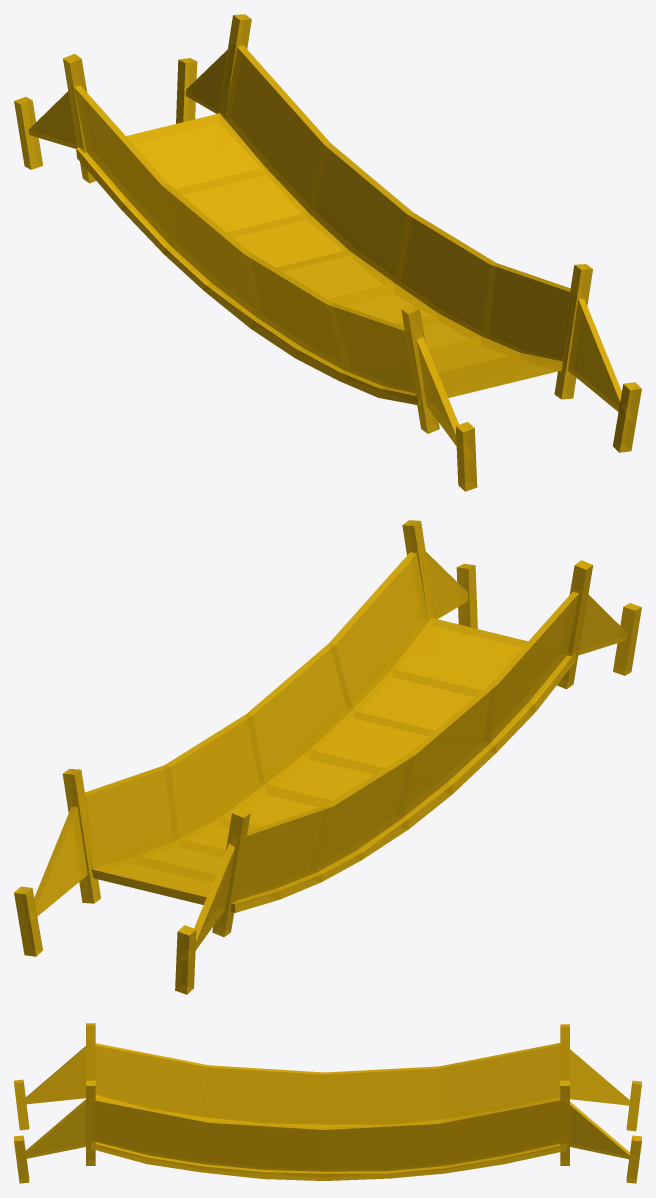
Rendered from SM_Bld_Ropebridge_01_Collision.fbx.
The picture shows the model from 3 angles, top to bottom: view 1: azimuth 30°, elevation 25°; view 2: azimuth 150°, elevation 25°; view 3: azimuth 270°, elevation 25°; orthographic projection. The views are drawn at different scales.
Visible parts, largest first — view 1: SM_Bld_Ropebridge_01_Collision; view 2: SM_Bld_Ropebridge_01_Collision; view 3: SM_Bld_Ropebridge_01_Collision.
Boxes of the visible parts, x1,y1,x2,y2 form: SM_Bld_Ropebridge_01_Collision: [14, 14, 641, 491]; SM_Bld_Ropebridge_01_Collision: [14, 520, 641, 994]; SM_Bld_Ropebridge_01_Collision: [14, 1023, 641, 1183].
Bounding box in the file's own units: 263 × 200 × 1111.
